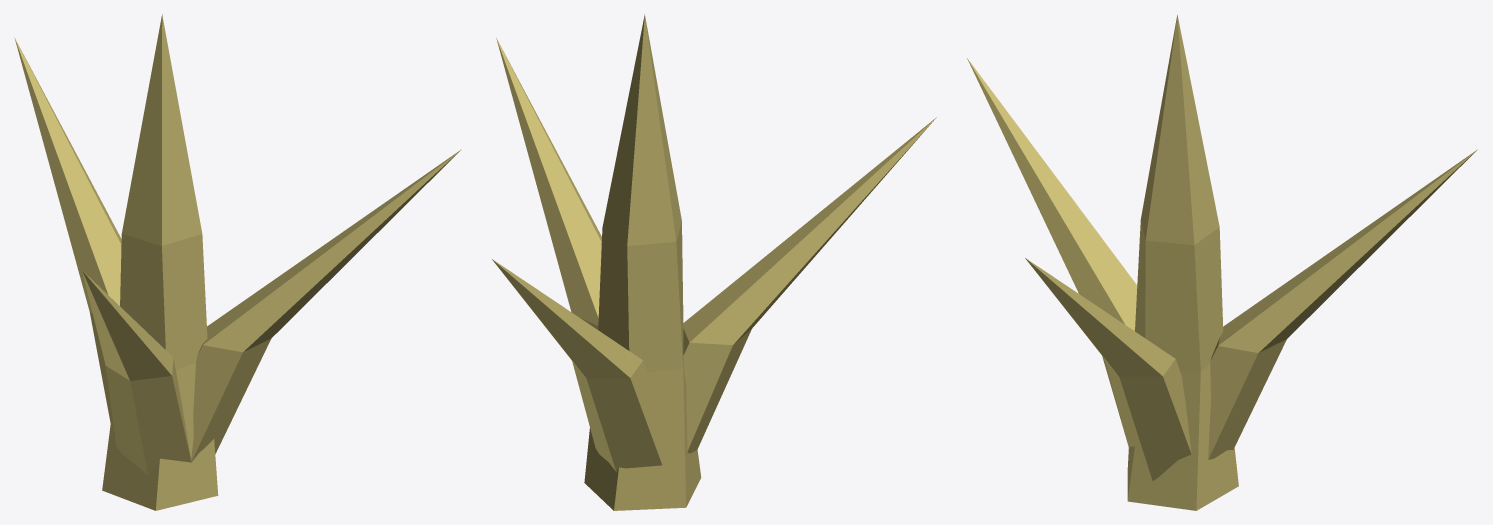
Rendered from Grass.fbx.
The picture shows the model from 3 angles, left to right: view 1: azimuth 30°, elevation 25°; view 2: azimuth 150°, elevation 25°; view 3: azimuth 270°, elevation 25°; orthographic projection.
Visible parts, largest first — view 1: Cylinder.019; view 2: Cylinder.019; view 3: Cylinder.019.
Part boxes in pixels (x1,y1,x2,y2): Cylinder.019: [14, 14, 461, 510]; Cylinder.019: [492, 14, 936, 510]; Cylinder.019: [967, 14, 1477, 510].
Bounding box in the file's own units: 1.35 × 1.48 × 1.46.
